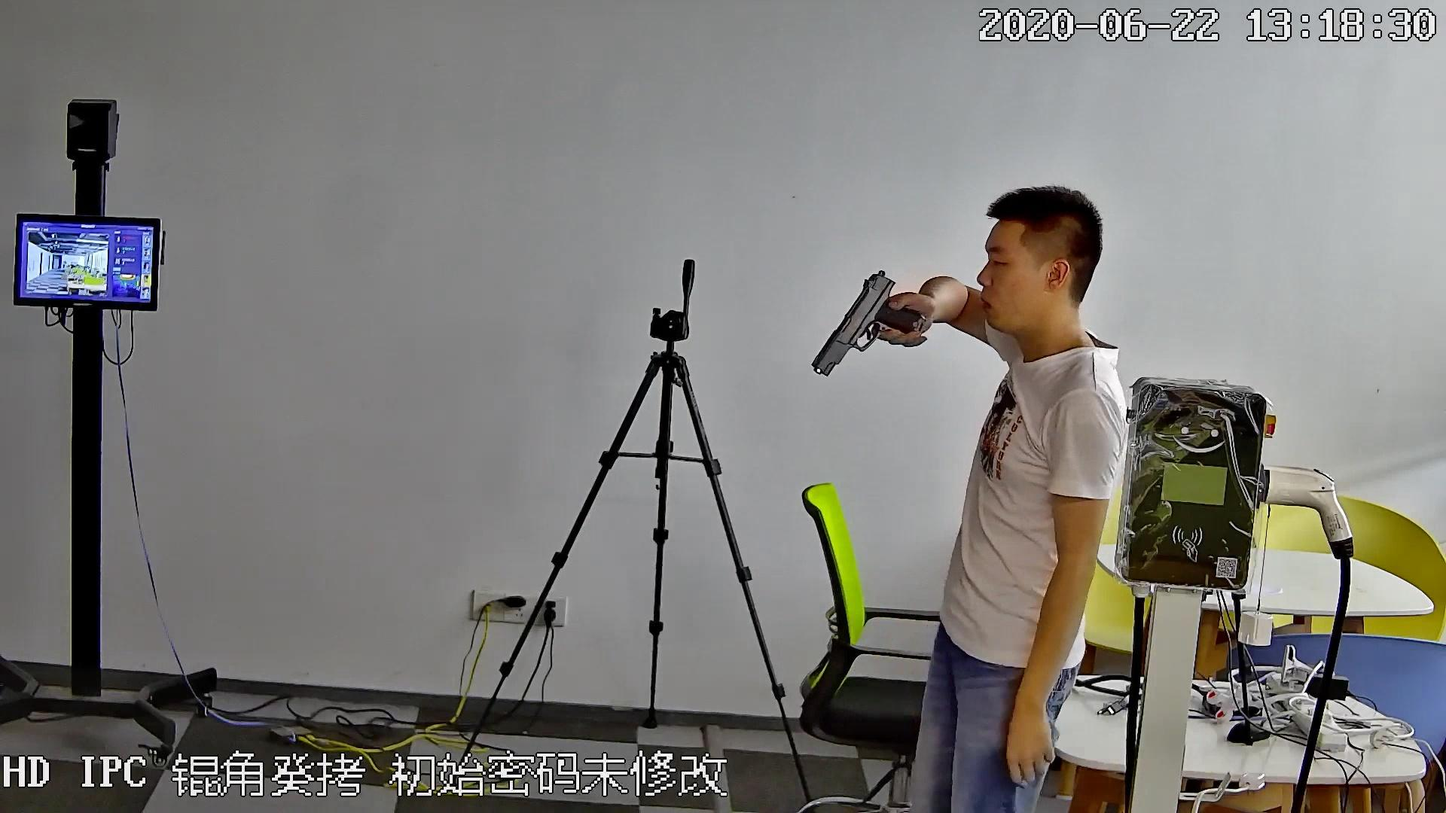gun: (806, 266, 930, 380)
